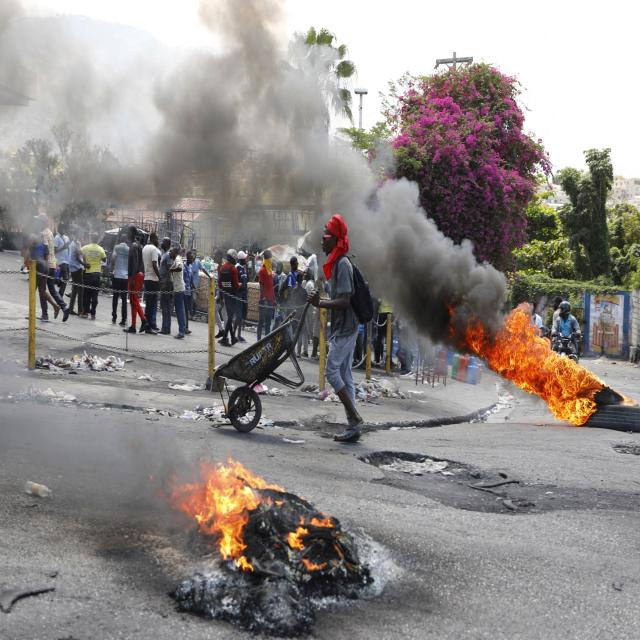fire: (469, 301, 604, 427), (175, 456, 262, 572)
